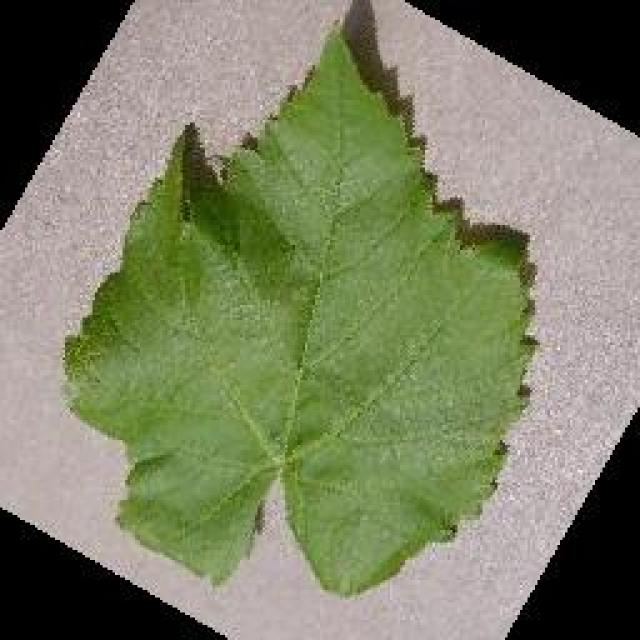Grape___healthy: (65, 30, 528, 592)
